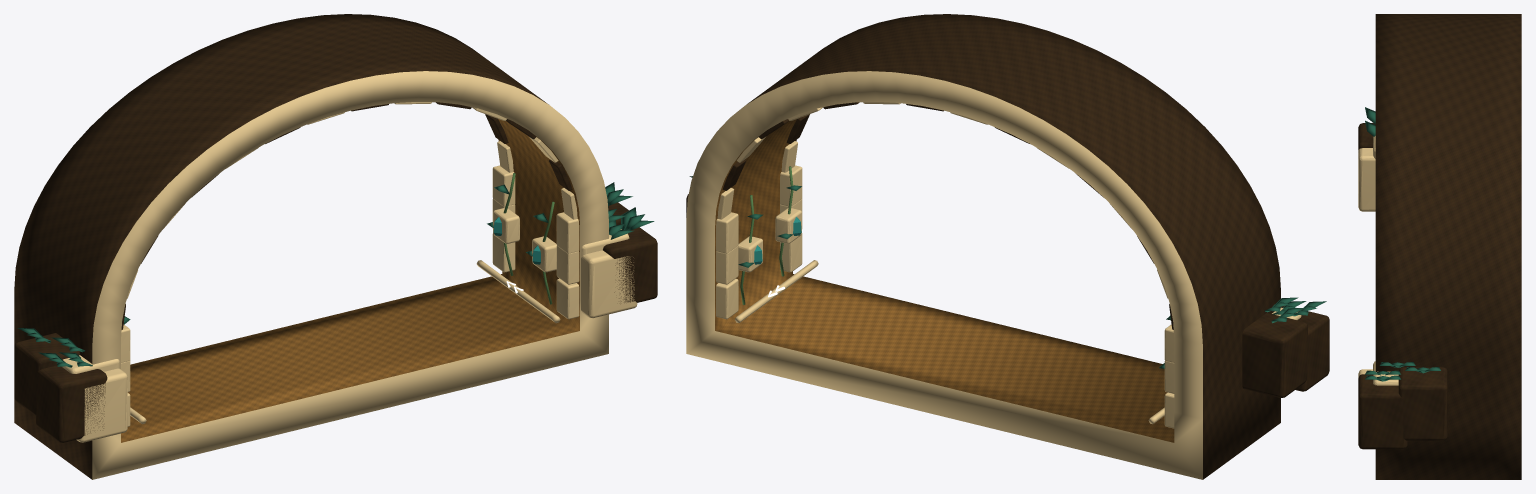
Rendered from portal_entry.glb.
3 views of the same model, side by side, from view 1: azimuth 30°, elevation 25°; view 2: azimuth 150°, elevation 25°; view 3: azimuth 270°, elevation 25° (orthographic). The views are drawn at different scales.
Visible parts, largest first — view 1: TunnelGeometry; view 2: TunnelGeometry; view 3: TunnelGeometry.
Part boxes in pixels (bbox=[...]): TunnelGeometry: bbox=[14, 14, 657, 479]; TunnelGeometry: bbox=[686, 14, 1329, 479]; TunnelGeometry: bbox=[1358, 14, 1521, 479].
Bounding box in the file's own units: 17.75 × 9.52 × 4.47.
Materials: 7 (2 with a texture image).
